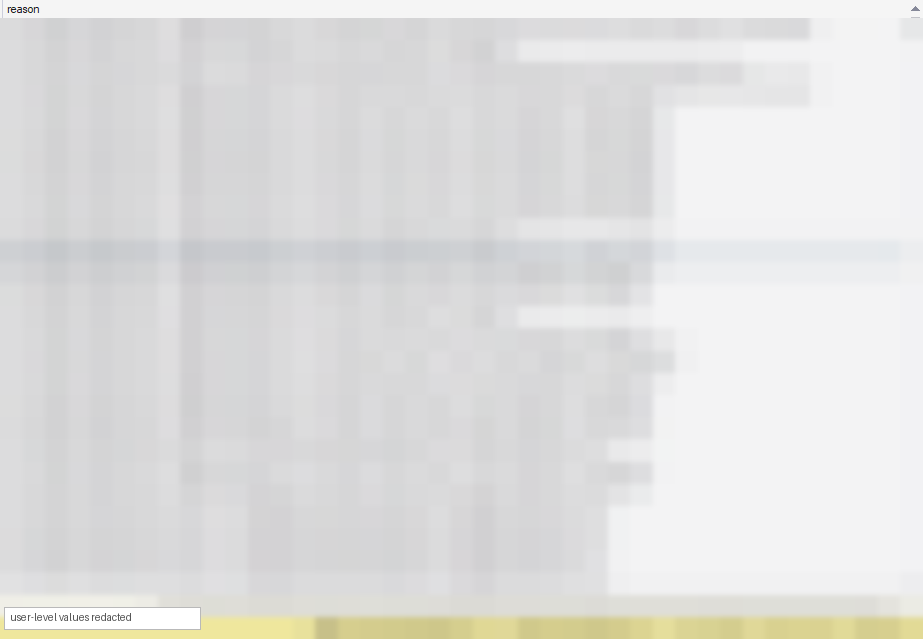

The dashboard page shown, as its layout file describes it:
{"tool":"powerbi","page":{"name":"Promotion & Merchant Exposure","canvas":[1280,720],"ordinal":1},"visuals":[{"type":"shape","box":[7.8,87.5,144,621.5],"z":0},{"type":"shape","box":[7.8,10.7,1262.5,69.1],"z":1000},{"type":"cardVisual","fields":{"Data":["_Measures.Page 2 Total Promotions"]},"box":[158.5,87.5,164.4,99.2],"z":2000},{"type":"cardVisual","fields":{"Data":["_Measures.Page 2 Successful Transactions"]},"box":[348.2,87.5,164.4,99.2],"z":3000},{"type":"cardVisual","fields":{"Data":["_Measures.Credited Promo Cost"]},"box":[537.9,87.5,164.4,99.2],"z":4000},{"type":"cardVisual","fields":{"Data":["_Measures.Success Rate"]},"box":[727.6,87.5,164.4,99.2],"z":5000},{"type":"cardVisual","fields":{"Data":["_Measures.Non-success Discount Amount"]},"box":[917.3,87.7,163.9,99.1],"z":6000},{"type":"cardVisual","fields":{"Data":["_Measures.Top Promotion Share"]},"box":[1106.5,87.7,163.9,99.1],"z":7000},{"type":"clusteredColumnChart","title":"Payment Promo Cost by Merchant Category","fields":{"Category":["merchant_daily_summary.reportCat"],"Y":["Sum(merchant_daily_summary.credited_discount_success_only)"]},"box":[683,196,587,186],"z":8000},{"type":"pivotTable","title":"Merchant / Category Performance Detail","fields":{"Rows":["merchant_daily_summary.reportCat","merchant_daily_summary.appName","merchant_daily_summary.reportSubCat"],"Values":["_Measures.Merchant Transactions","_Measures.Merchant Successful Transactions","_Measures.Merchant Transaction Success Rate","_Measures.Merchant Credited Promo Cost"]},"box":[683,390,587,238],"z":9000},{"type":"clusteredBarChart","title":"Promo cost by payment classification","fields":{"Category":["merchant_daily_summary.Payment Group Short"],"Y":["_Measures.Merchant Credited Promo Cost"]},"box":[160,482,510,146],"z":10000},{"type":"textbox","box":[160,634.5,1110,74.5],"z":11000},{"type":"clusteredBarChart","title":"Credited promo cost by promotion","fields":{"Y":["Sum(promotion_daily_summary.credited_discount_success_only)"],"Category":["promotion_daily_summary.promotion_display"]},"box":[159,196,511,280],"z":12000},{"type":"textbox","box":[26,9,801.5,53.7],"z":13000},{"type":"slicer","fields":{"Values":["Date Table.Date"]},"box":[1027.5,19.2,252.5,50.8],"z":14000},{"type":"textbox","box":[26,49,845,27],"z":15000},{"type":"cardVisual","fields":{"Data":["_Measures.Last Refreshed Label"]},"box":[778.9,18.9,197.8,47.8],"z":16000},{"type":"actionButton","box":[985,23,51,43],"z":17000},{"type":"pageNavigator","box":[4.6,151.5,150,306.9],"z":18000},{"type":"textbox","box":[5.6,98.9,146.7,37.8],"z":19000},{"type":"shape","box":[15,122.5,127.5,30],"z":20000}]}

Visuals, with their boxes on the page's 1280x720 design canvas (x1, y1, x2, y2). These are canvas units, not pixel positions in the 923x639 screenshot, which may show the page scaled, cropped or inside an application window:
shape: (x1=8, y1=88, x2=152, y2=709)
shape: (x1=8, y1=11, x2=1270, y2=80)
cardVisual - _Measures.Page 2 Total Promotions: (x1=158, y1=88, x2=323, y2=187)
cardVisual - _Measures.Page 2 Successful Transactions: (x1=348, y1=88, x2=513, y2=187)
cardVisual - _Measures.Credited Promo Cost: (x1=538, y1=88, x2=702, y2=187)
cardVisual - _Measures.Success Rate: (x1=728, y1=88, x2=892, y2=187)
cardVisual - _Measures.Non-success Discount Amount: (x1=917, y1=88, x2=1081, y2=187)
cardVisual - _Measures.Top Promotion Share: (x1=1106, y1=88, x2=1270, y2=187)
"Payment Promo Cost by Merchant Category" clusteredColumnChart: (x1=683, y1=196, x2=1270, y2=382)
"Merchant / Category Performance Detail" pivotTable: (x1=683, y1=390, x2=1270, y2=628)
"Promo cost by payment classification" clusteredBarChart: (x1=160, y1=482, x2=670, y2=628)
textbox: (x1=160, y1=634, x2=1270, y2=709)
"Credited promo cost by promotion" clusteredBarChart: (x1=159, y1=196, x2=670, y2=476)
textbox: (x1=26, y1=9, x2=828, y2=63)
slicer - Date Table.Date: (x1=1028, y1=19, x2=1280, y2=70)
textbox: (x1=26, y1=49, x2=871, y2=76)
cardVisual - _Measures.Last Refreshed Label: (x1=779, y1=19, x2=977, y2=67)
actionButton: (x1=985, y1=23, x2=1036, y2=66)
pageNavigator: (x1=5, y1=152, x2=155, y2=458)
textbox: (x1=6, y1=99, x2=152, y2=137)
shape: (x1=15, y1=122, x2=142, y2=152)
